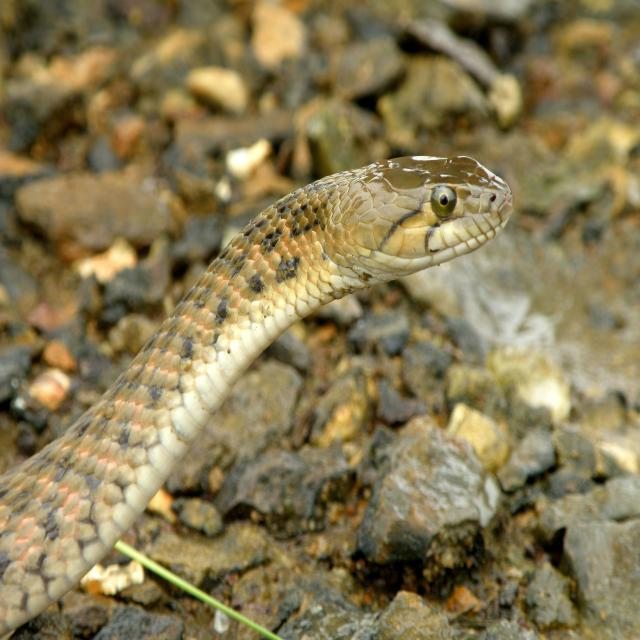Snake: (1, 152, 514, 638)
